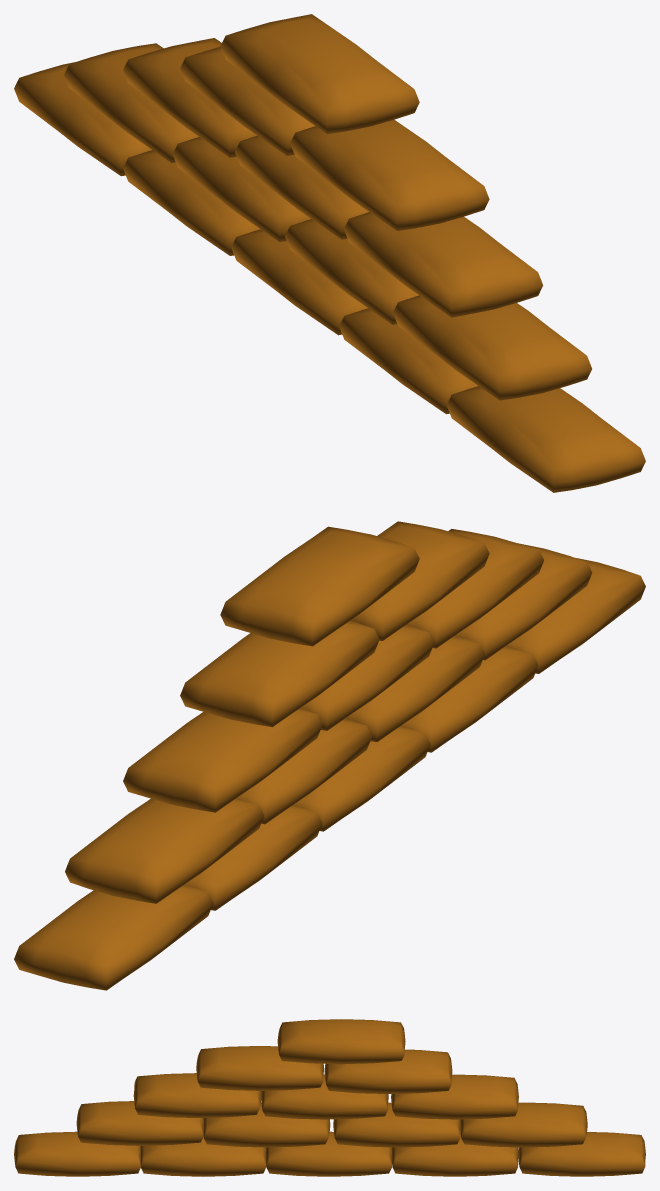
Rendered from Prop_SandbagPyramid.FBX.
3 renders of one model, top to bottom at view 1: azimuth 30°, elevation 25°; view 2: azimuth 150°, elevation 25°; view 3: azimuth 270°, elevation 25°, orthographic. The views are drawn at different scales.
Visible parts, largest first — view 1: Sandbag pyramid; view 2: Sandbag pyramid; view 3: Sandbag pyramid.
Part boxes in pixels (box(x1,y1,x2,y2)): Sandbag pyramid: box(14, 14, 645, 492); Sandbag pyramid: box(14, 521, 645, 990); Sandbag pyramid: box(14, 1019, 645, 1176).
Bounding box in the file's own units: 40.17 × 94.43 × 368.
